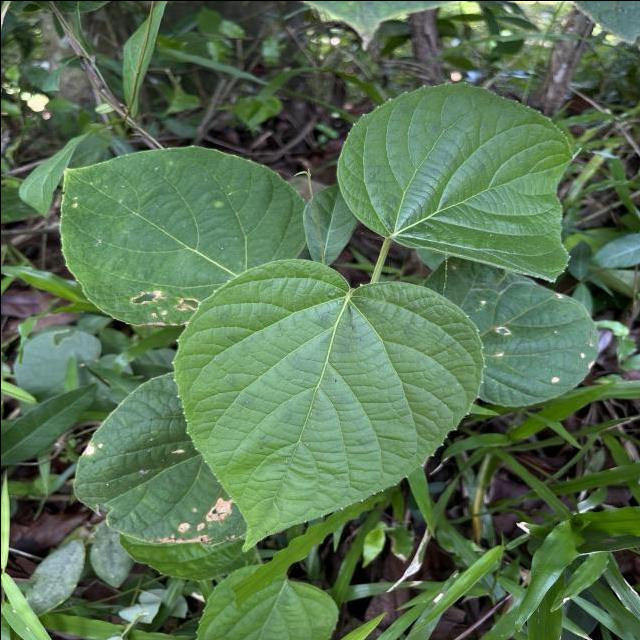Clerodendrum infortunatum: (167, 256, 484, 554), (332, 78, 582, 286), (56, 142, 310, 329)
